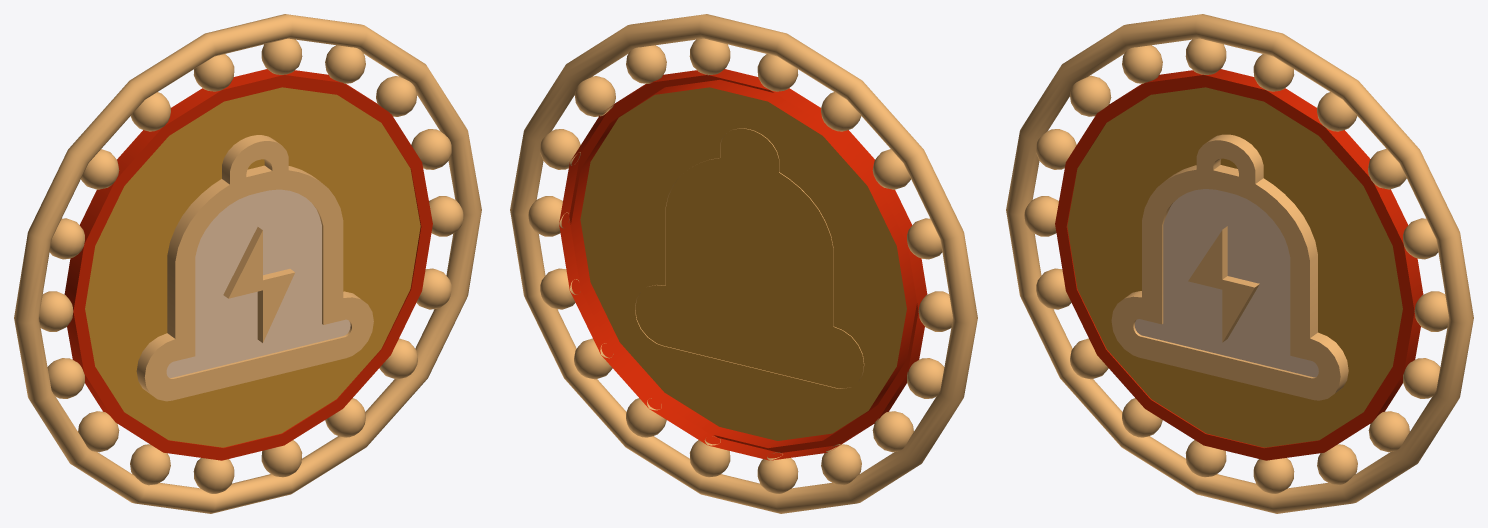
3 renders of one model, left to right at view 1: azimuth 30°, elevation 25°; view 2: azimuth 150°, elevation 25°; view 3: azimuth 330°, elevation 25°, orthographic.
Visible parts, largest first — view 1: 预警图标003; view 2: 预警图标003; view 3: 预警图标003.
Part boxes in pixels (<box>): 预警图标003: <box>14,14,481,513</box>; 预警图标003: <box>510,14,977,513</box>; 预警图标003: <box>1006,14,1473,513</box>.
Bounding box in the file's own units: 0.1559 × 0.1536 × 0.0155.
